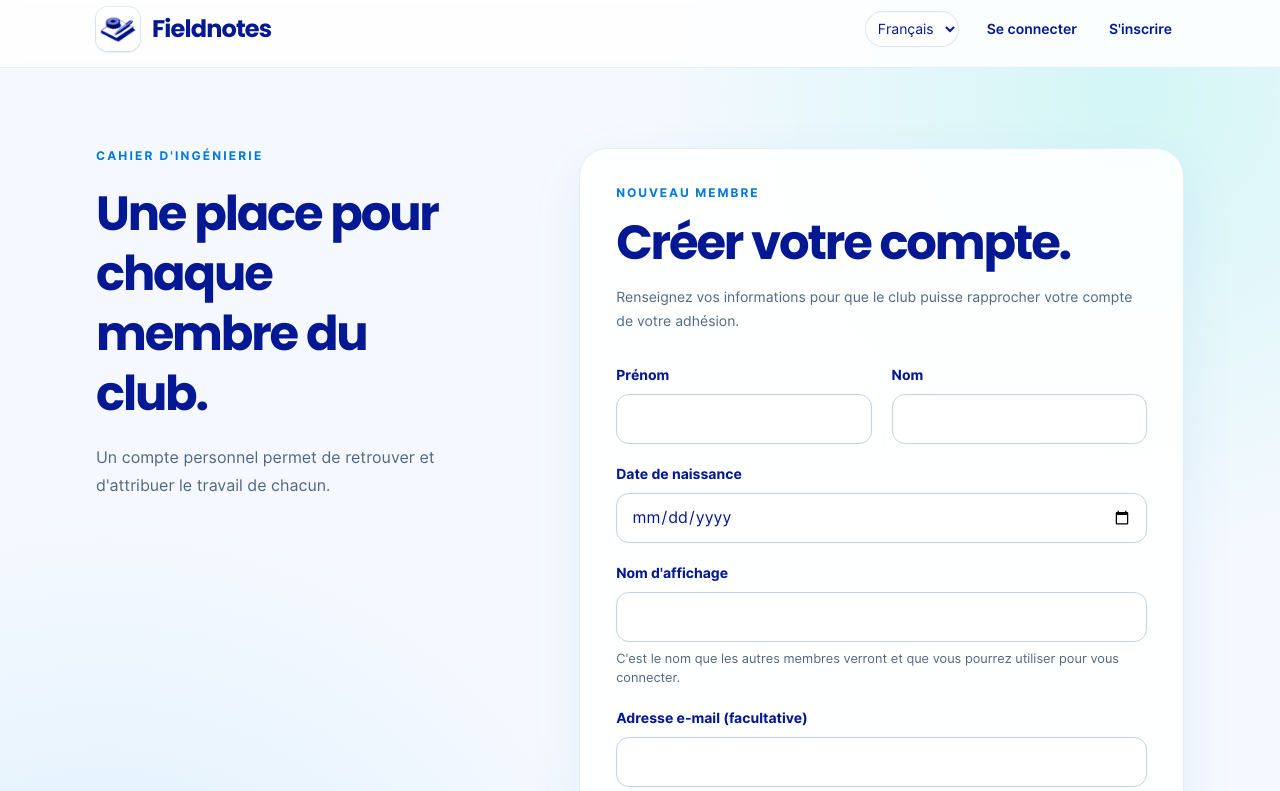
keeps the route and unsaved form values when switching on /signup
Type "Mon brouillon" into the field labelled "Prénom" at x=744, y=419, box left=616, top=394, right=872, bottom=444
(page scrolled)
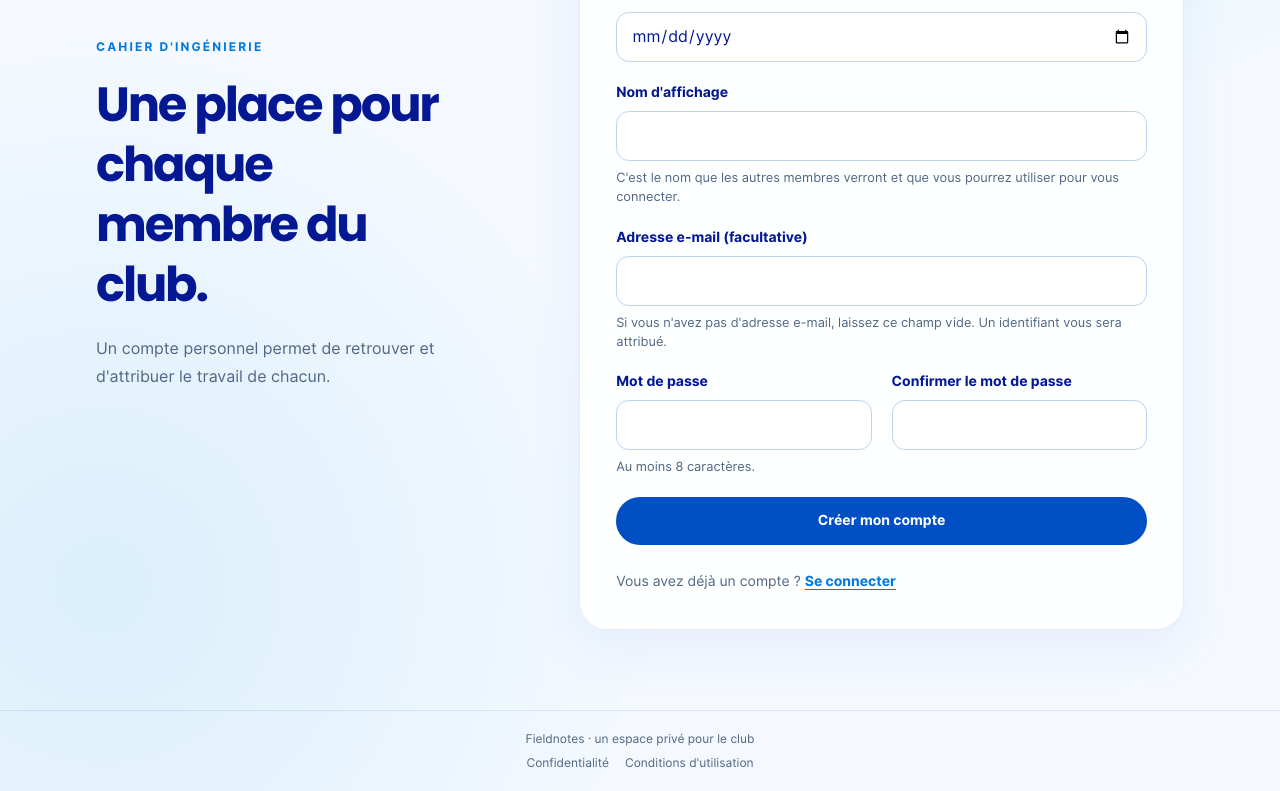
Type "secret-not-submitted" into the password field labelled "Mot de passe" at x=744, y=425, box left=616, top=400, right=872, bottom=450
(page scrolled)
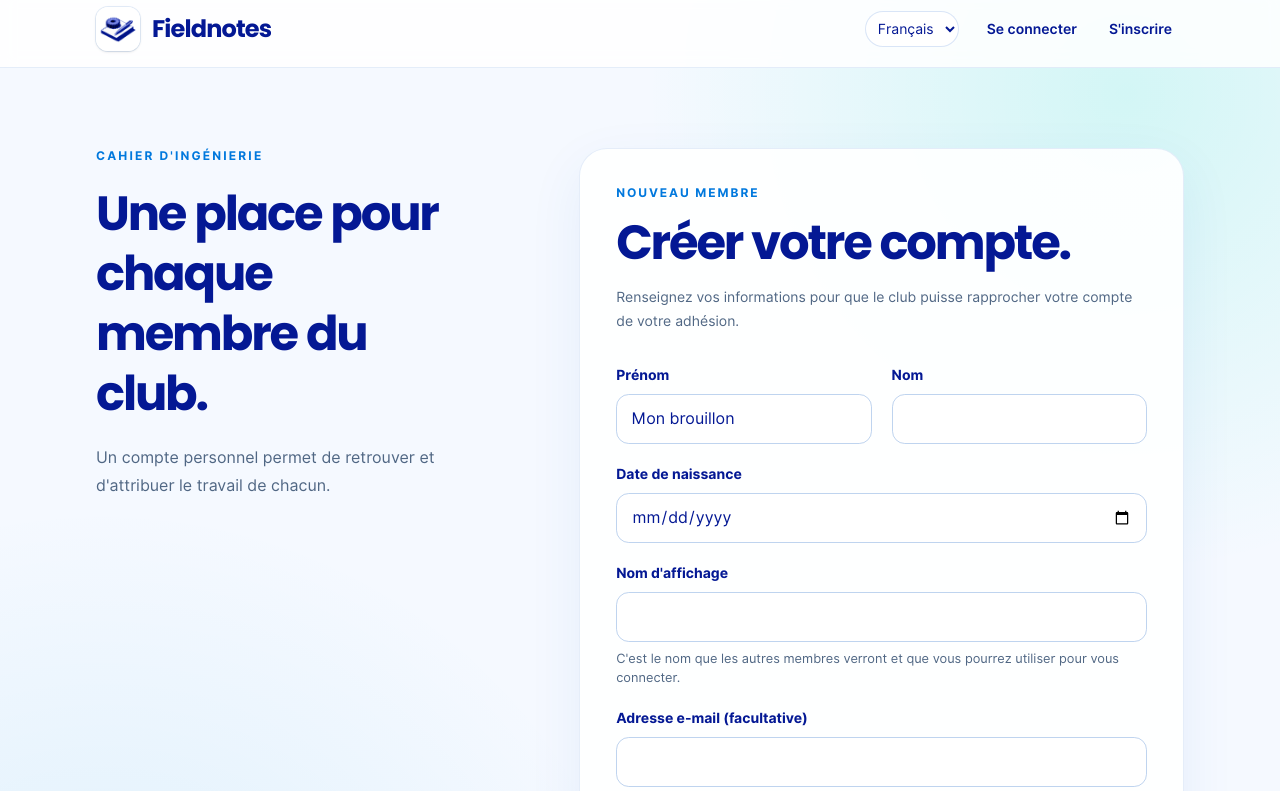
Select "English" in the dropdown named "Langue" at x=912, y=29, box left=865, top=11, right=959, bottom=47
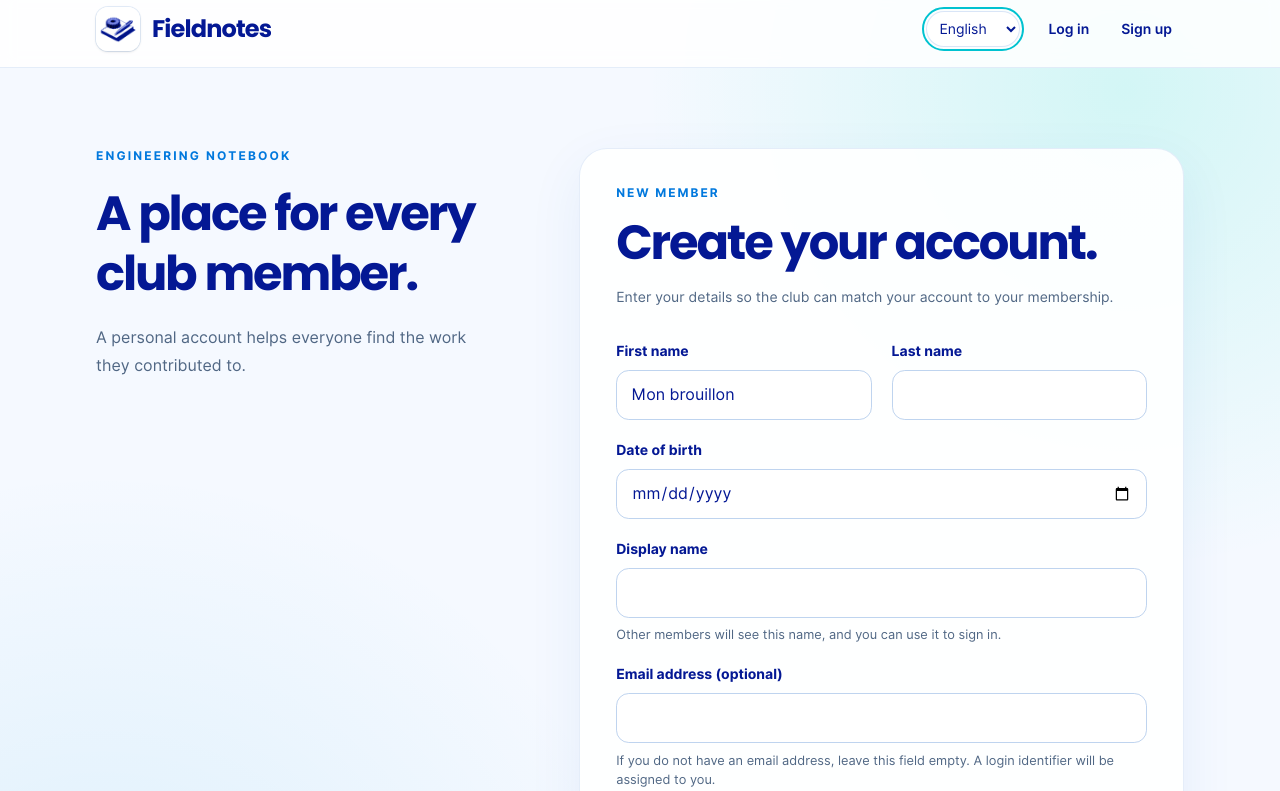
Expected: the link "Log in" is shown, left=1048, top=21, right=1089, bottom=37
